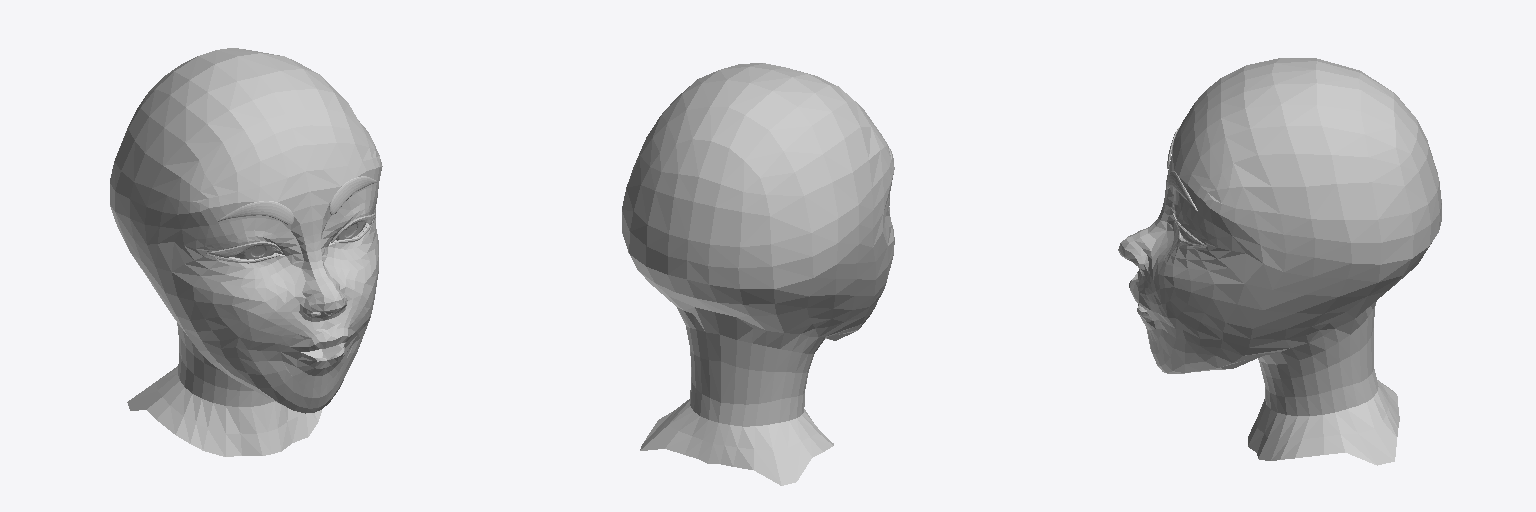
3 views of the same model, side by side, from view 1: azimuth 30°, elevation 25°; view 2: azimuth 150°, elevation 25°; view 3: azimuth 270°, elevation 25° (orthographic).
Parts seen in each view (by area): view 1: o_body_Plane.011; view 2: o_body_Plane.011; view 3: o_body_Plane.011.
Part boxes in pixels (x1,y1,x2,y2): o_body_Plane.011: (110,48,382,456); o_body_Plane.011: (622,63,894,485); o_body_Plane.011: (1118,58,1441,465).
Size of the model in its own units: 0.7869 by 1.29 by 1.01.